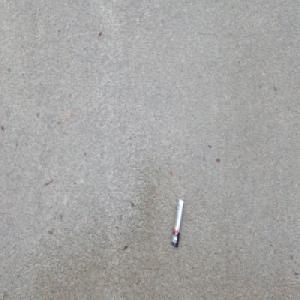Battery: (169, 196, 183, 249)
